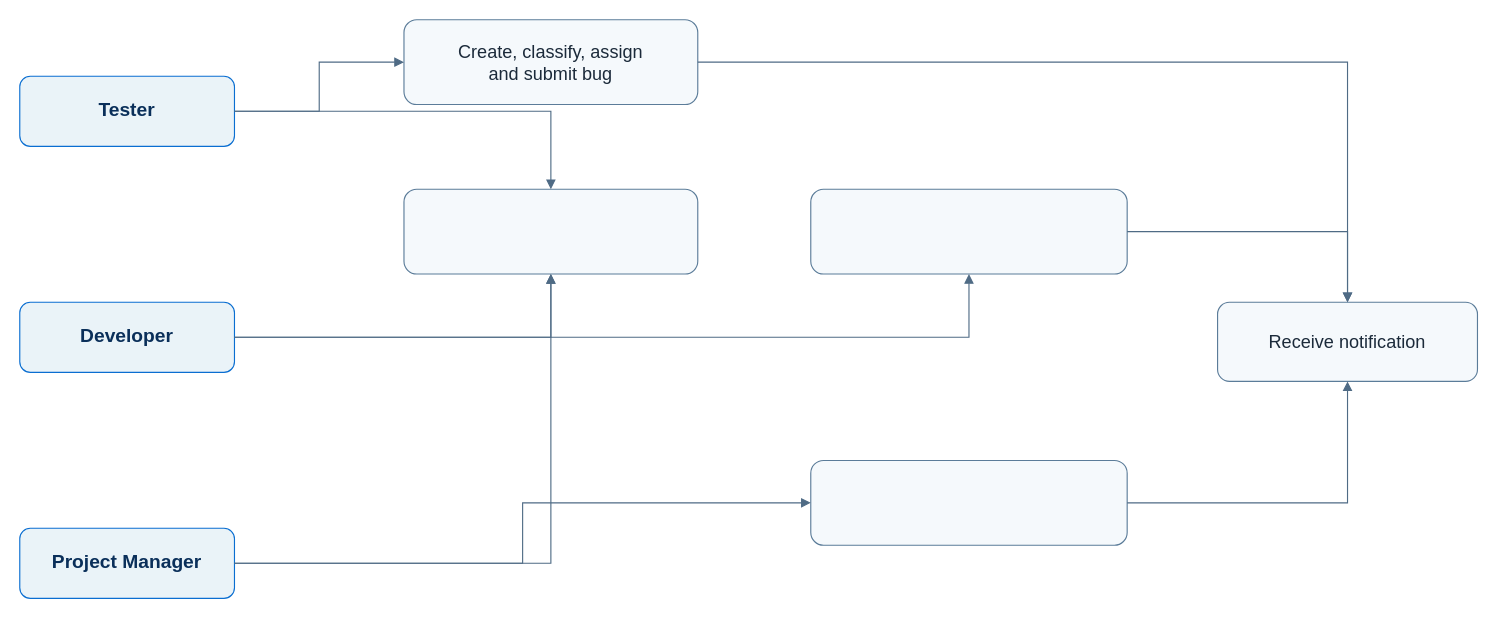
This 1497x618 diagram has some shape labels left out. Here are the shapes that lost their labels. From the top down, the box of each, then its label:
(403, 188, 698, 274): Comment, attach evidence and view history
(810, 188, 1127, 274): Review assigned bug request info, reject, resolve
(810, 459, 1127, 545): View workload, overdue bugs and dashboard
